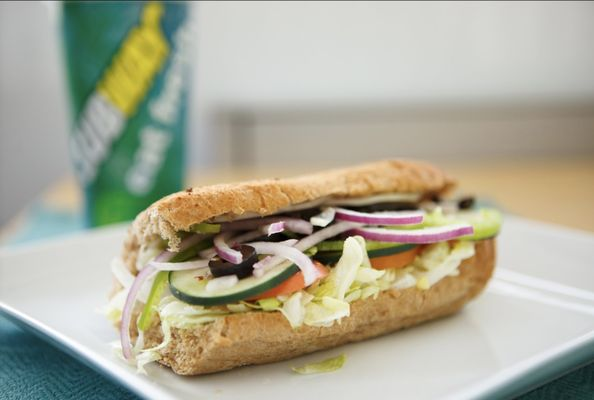soup: (107, 158, 513, 377)
